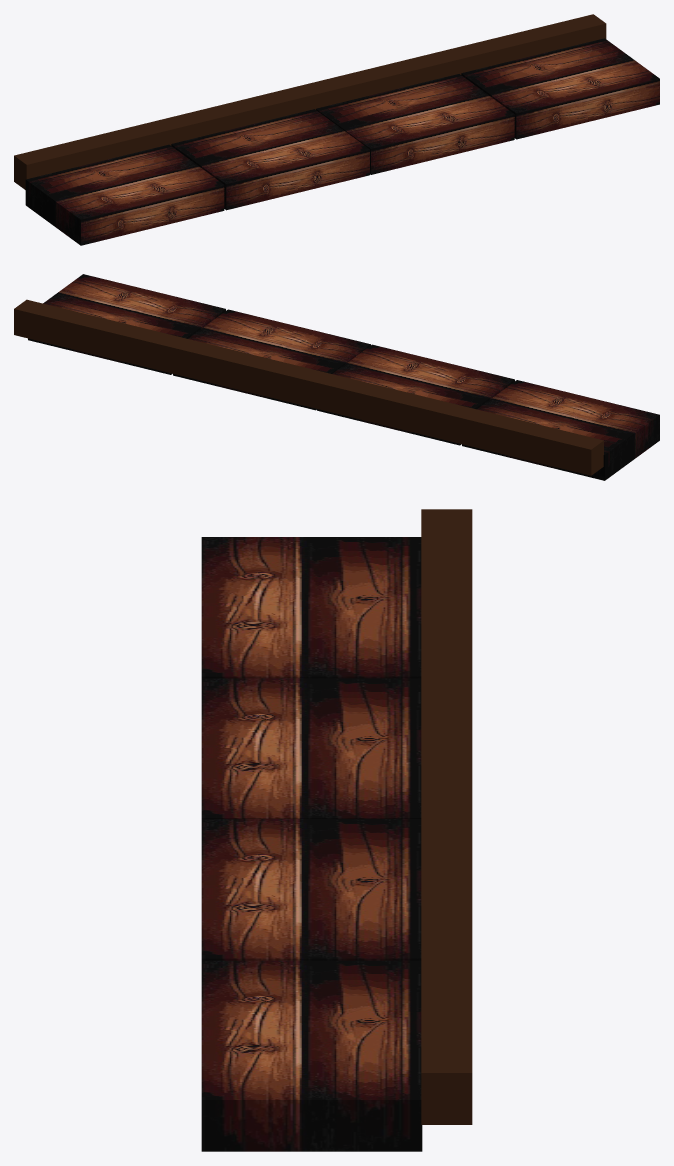
File: PisoMadera_Nivel01.fbx
The picture shows the model from 3 angles, top to bottom: view 1: azimuth 30°, elevation 25°; view 2: azimuth 150°, elevation 25°; view 3: azimuth 270°, elevation 25°; orthographic projection. The views are drawn at different scales.
Visible parts, largest first — view 1: Suelo_Madera.002, Plataforma_SUleo; view 2: Suelo_Madera.002, Plataforma_SUleo; view 3: Suelo_Madera.002, Plataforma_SUleo.
Part boxes in pixels (box(x1,y1,x2,y2)): Suelo_Madera.002: box(25, 38, 659, 245); Plataforma_SUleo: box(14, 14, 606, 189); Suelo_Madera.002: box(28, 274, 659, 480); Plataforma_SUleo: box(14, 299, 603, 475); Suelo_Madera.002: box(201, 537, 422, 1151); Plataforma_SUleo: box(421, 509, 472, 1124).
Bounding box in the file's own units: 1503 × 99.56 × 305.
Materials: 2 (1 with a texture image).
